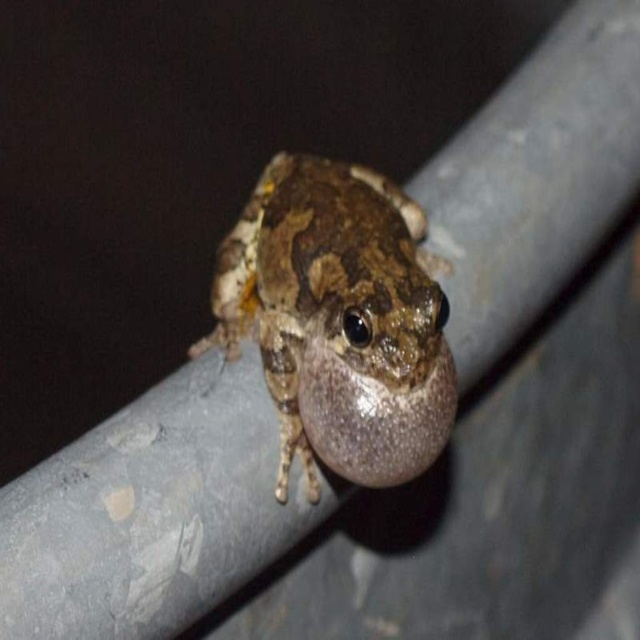Frog: (185, 149, 459, 502)
